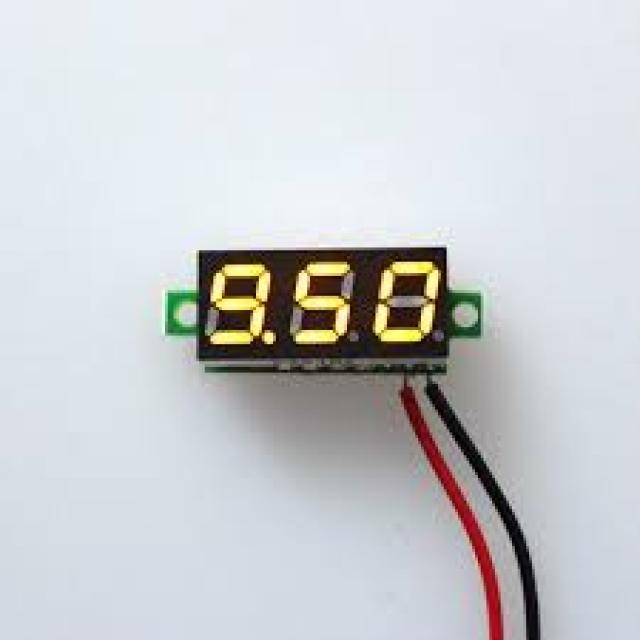.: (262, 330, 278, 345)
0: (373, 254, 446, 347)
5: (292, 255, 365, 350)
9: (206, 258, 284, 349)
screen: (198, 251, 449, 358)
